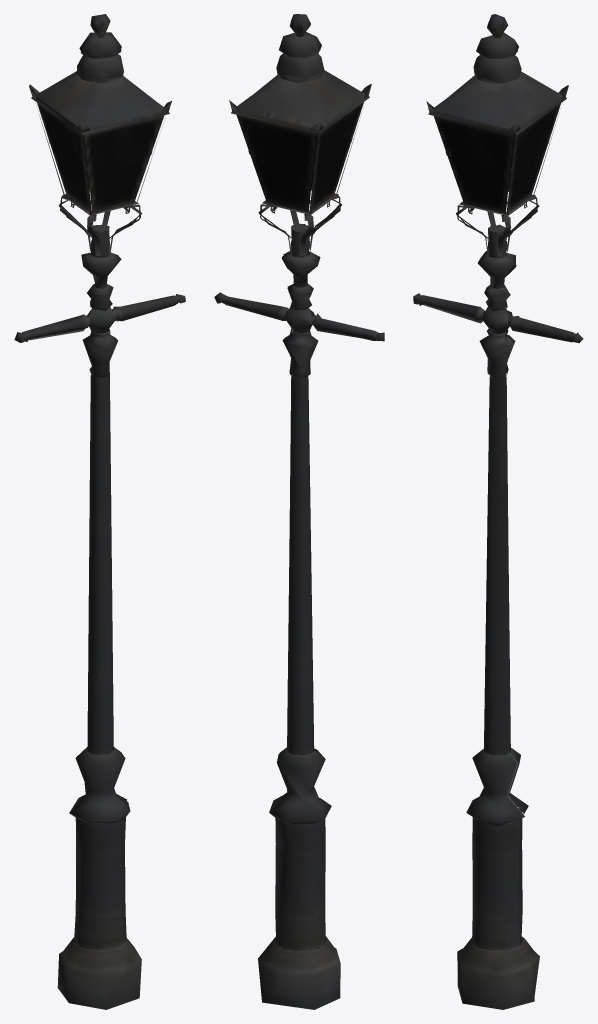
Rendered from street_lamp_01.glb.
The picture shows the model from 3 angles, left to right: view 1: azimuth 30°, elevation 25°; view 2: azimuth 150°, elevation 25°; view 3: azimuth 330°, elevation 25°; orthographic projection.
Parts seen in each view (by area): view 1: street_lamp_01; view 2: street_lamp_01; view 3: street_lamp_01.
Part boxes in pixels (<box>): street_lamp_01: <box>14,14,185,1009</box>; street_lamp_01: <box>214,14,384,1009</box>; street_lamp_01: <box>413,14,583,1009</box>.
Bounding box in the file's own units: 0.7074 × 3.87 × 0.3843.
Materials: 3 (3 with a texture image).
